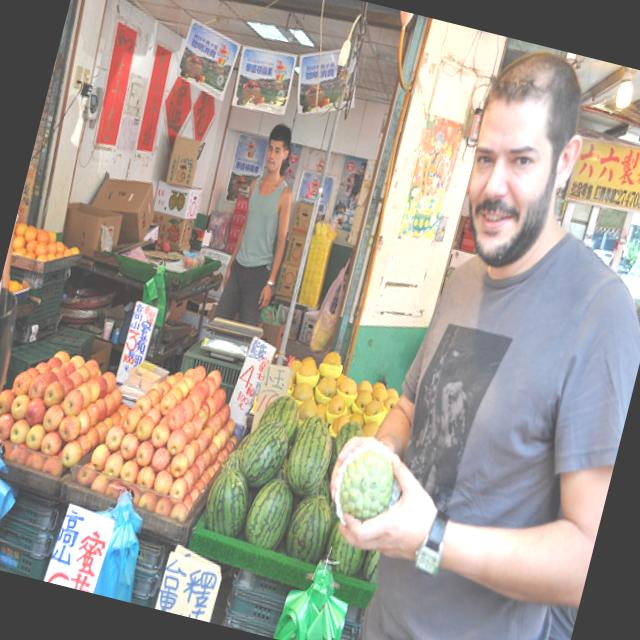Vehicle: (613, 236, 640, 312)
